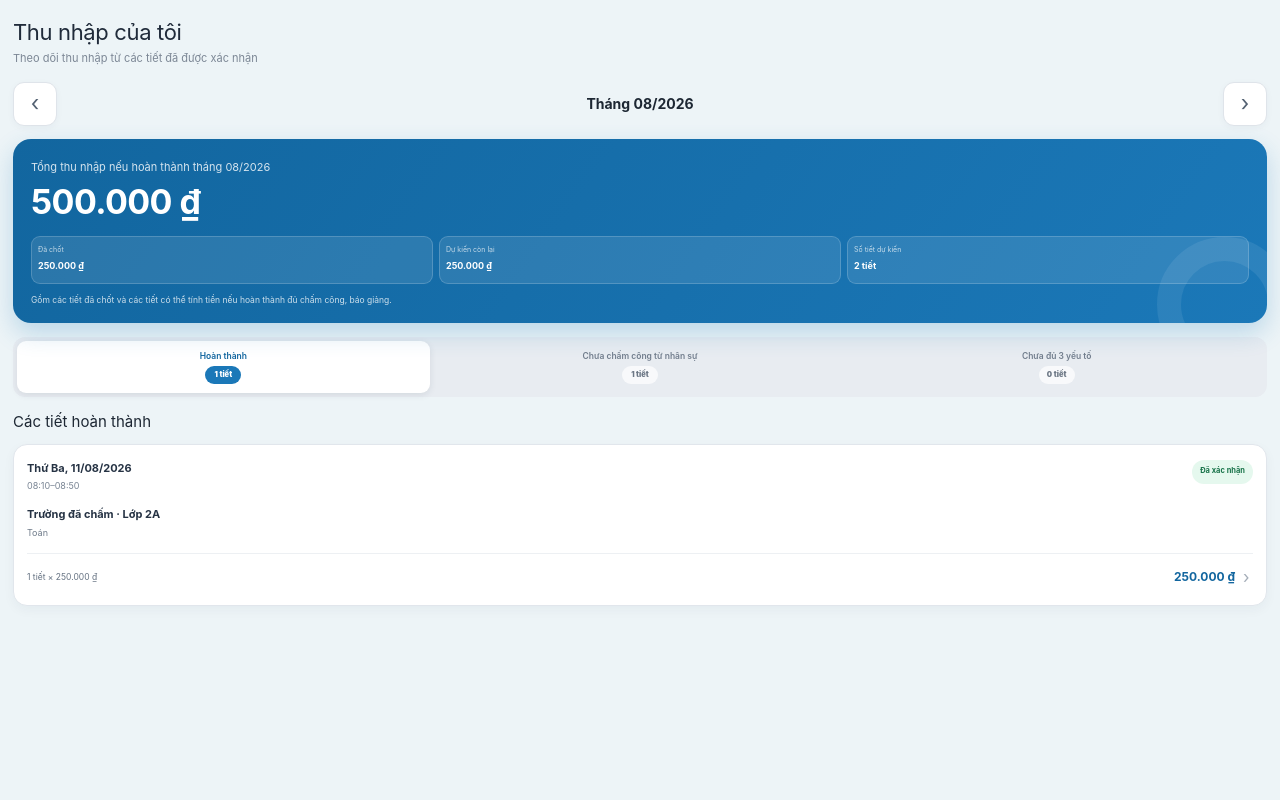
TeacherIncomeScreen › chia đúng các tiết hoàn thành và chưa chấm công từ nhân sự thành hai tab
The image size is (1280, 800).
Check: the text "Trường đã chấm · Lớp 2A" is shown, box [27,507,160,521]
Check: the text "Trường chưa chấm" is not shown
Click the tab "Chưa chấm công từ nhân sự 1 tiết": (640, 367) [434,341,846,393]
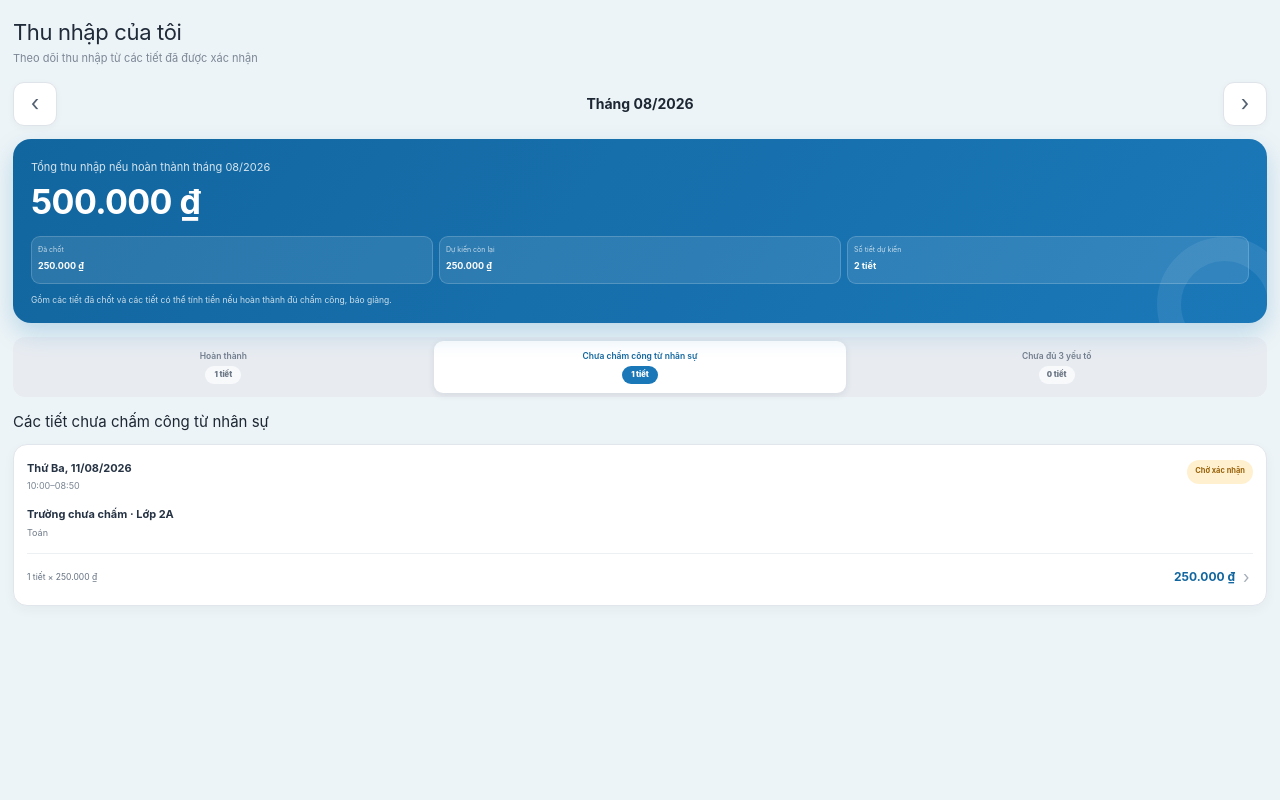
Check: the text "Trường chưa chấm · Lớp 2A" is shown, box [27,507,174,521]
Check: the button "Trường đã chấm" is gone
